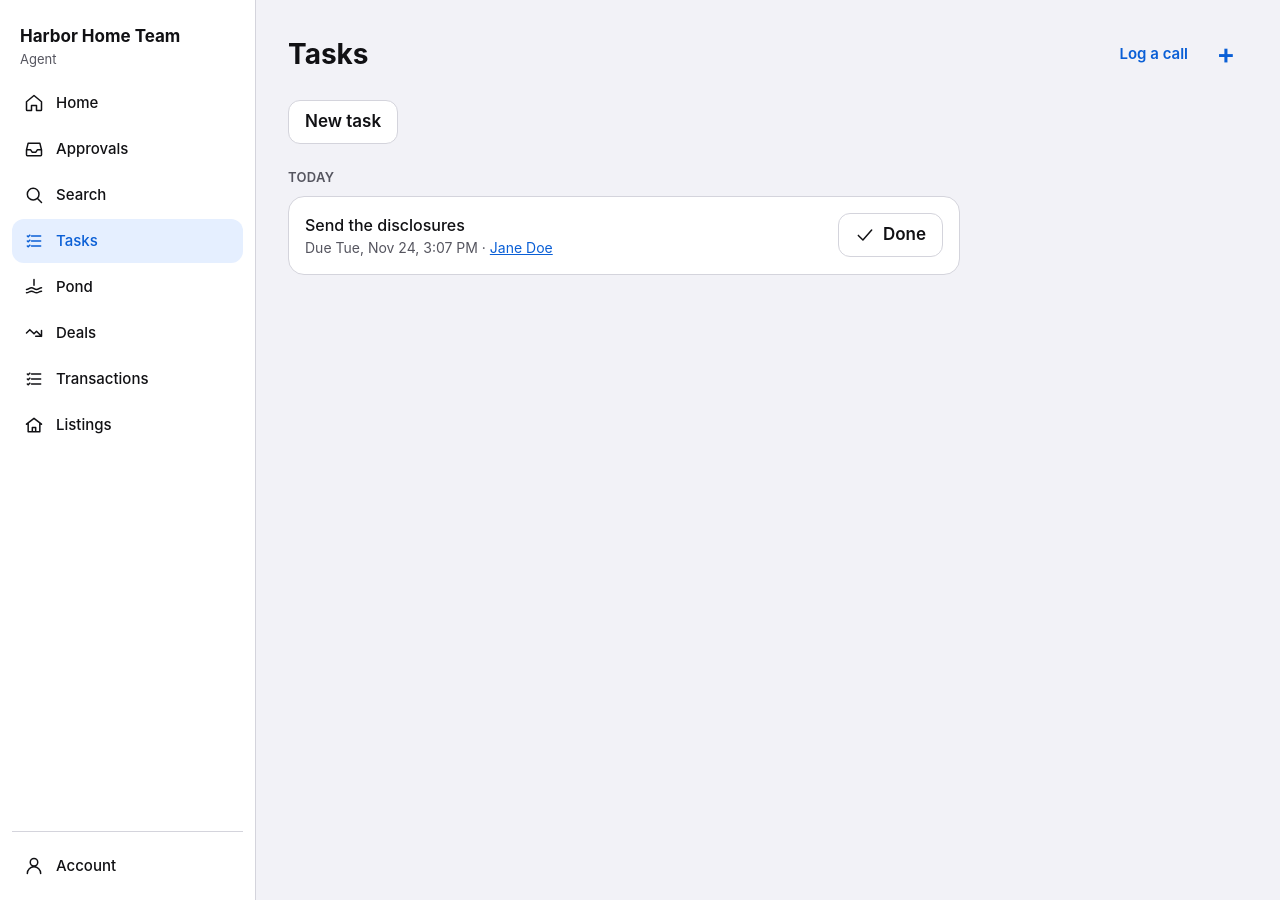
Test: Tasks › Done is one tap and refetches the list
Click the button "Done": click(890, 234) left=838, top=212, right=943, bottom=256
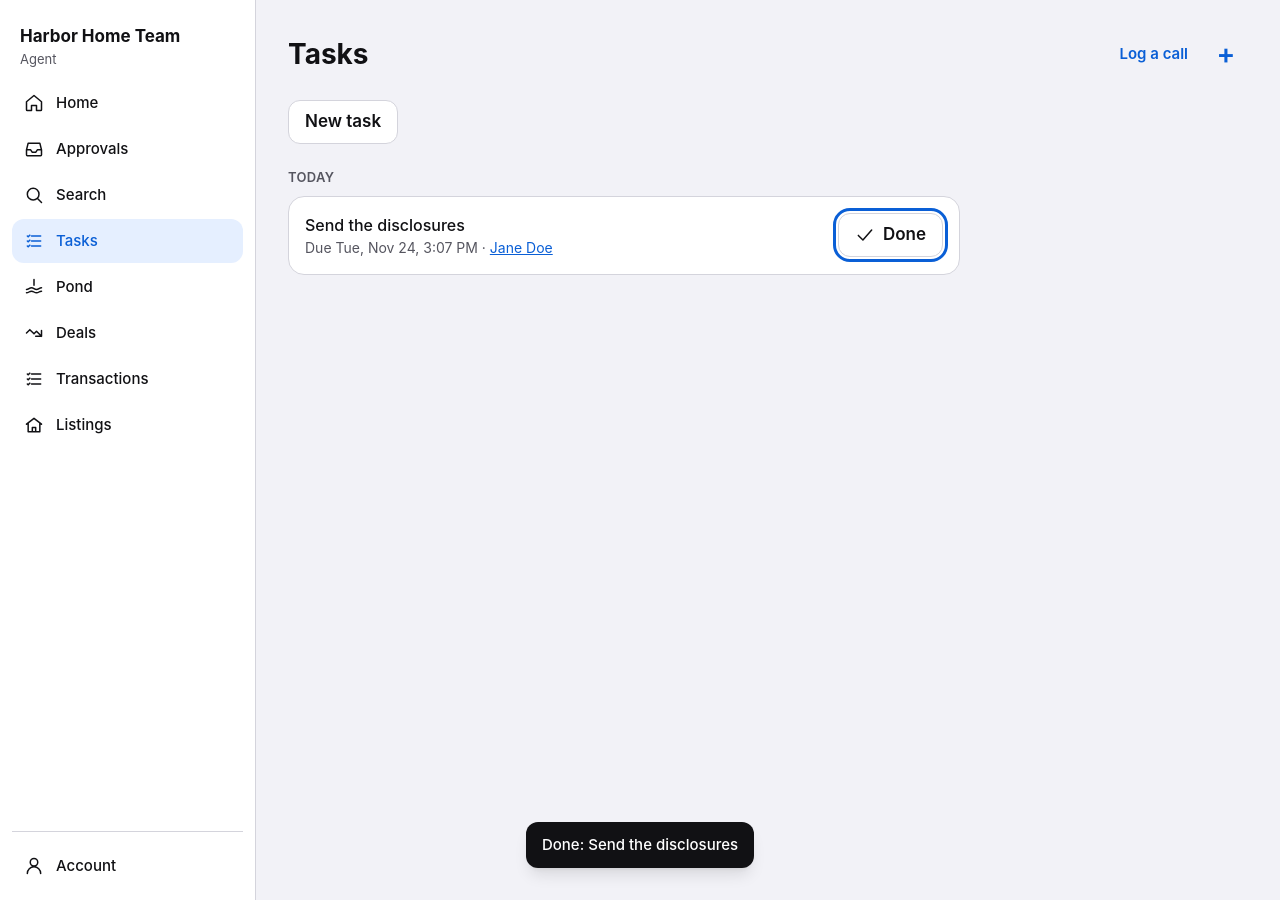
expect the text "Done: Send the disclosures" is shown: met, box left=526, top=822, right=754, bottom=868
